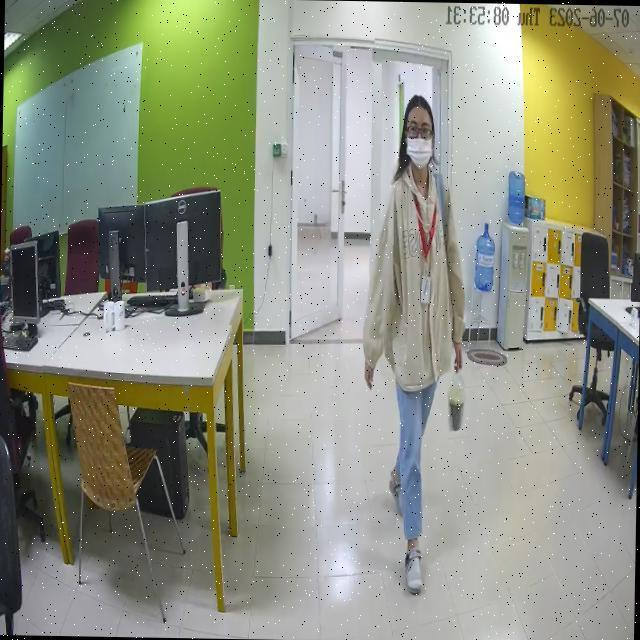person: (373, 98, 458, 594)
